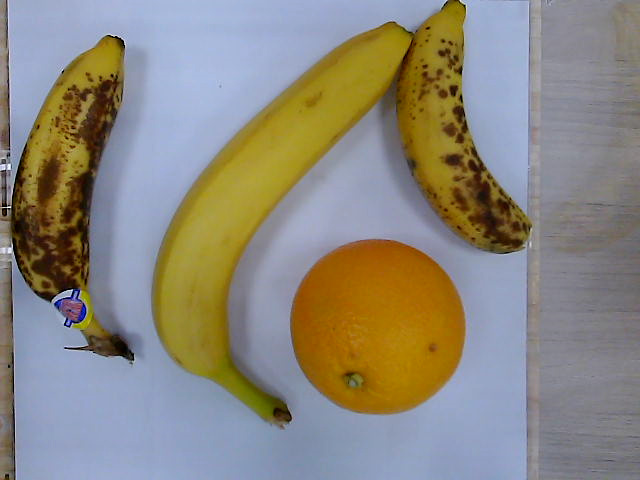fresh_banana: (151, 20, 414, 427)
fresh_orange: (291, 238, 465, 415)
rotten_banana: (11, 36, 133, 362), (398, 1, 534, 256)
